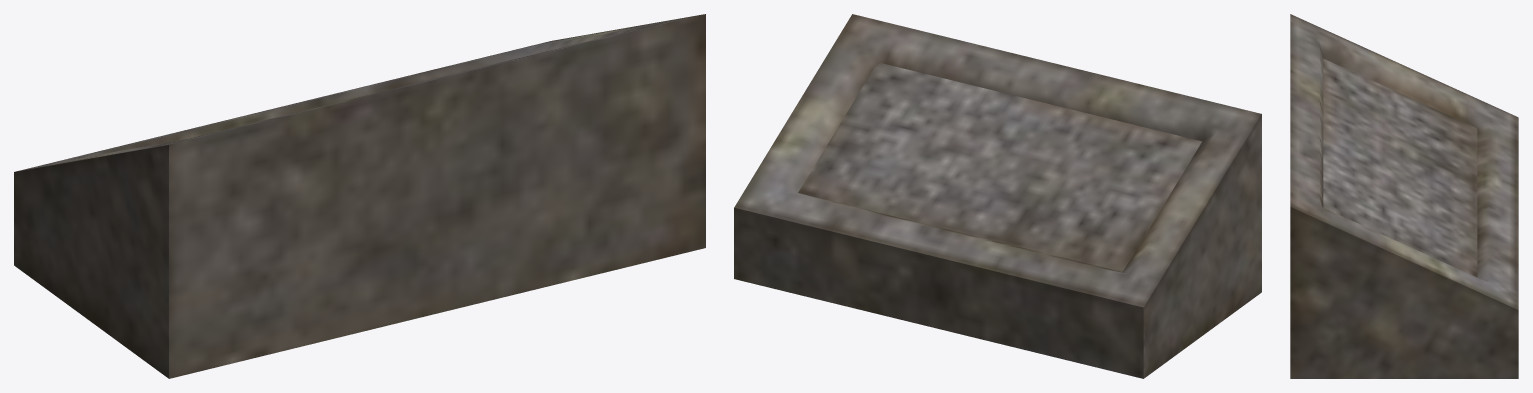
Rendered from pr_grave4.glb.
3 renders of one model, left to right at view 1: azimuth 30°, elevation 25°; view 2: azimuth 150°, elevation 25°; view 3: azimuth 270°, elevation 25°, orthographic. The views are drawn at different scales.
Visible parts, largest first — view 1: body|Graves; view 2: body|Graves; view 3: body|Graves.
Boxes of the visible parts, left/top/right/bottom form: body|Graves: left=14, top=14, right=705, bottom=378; body|Graves: left=734, top=14, right=1261, bottom=378; body|Graves: left=1290, top=14, right=1518, bottom=378.
Bounding box in the file's own units: 0.6096 × 0.254 × 0.3048.
Materials: 1 (1 with a texture image).
